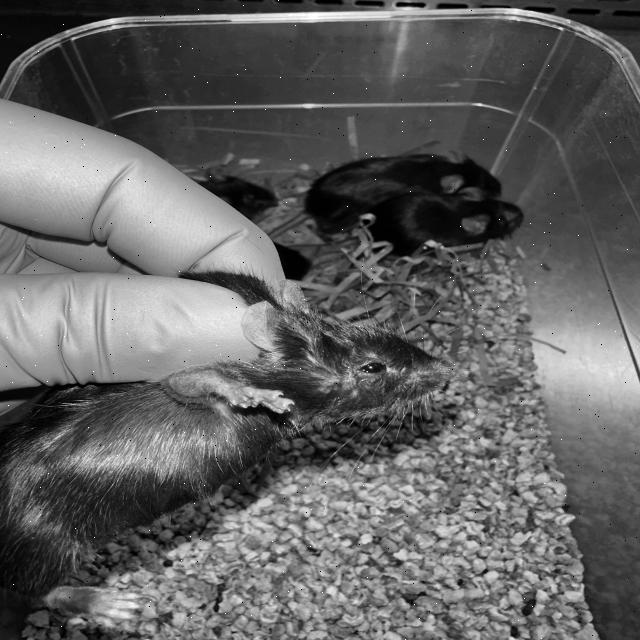Face: (235, 287, 461, 423)
